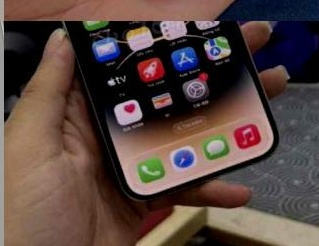scratch: (91, 0, 319, 21)
